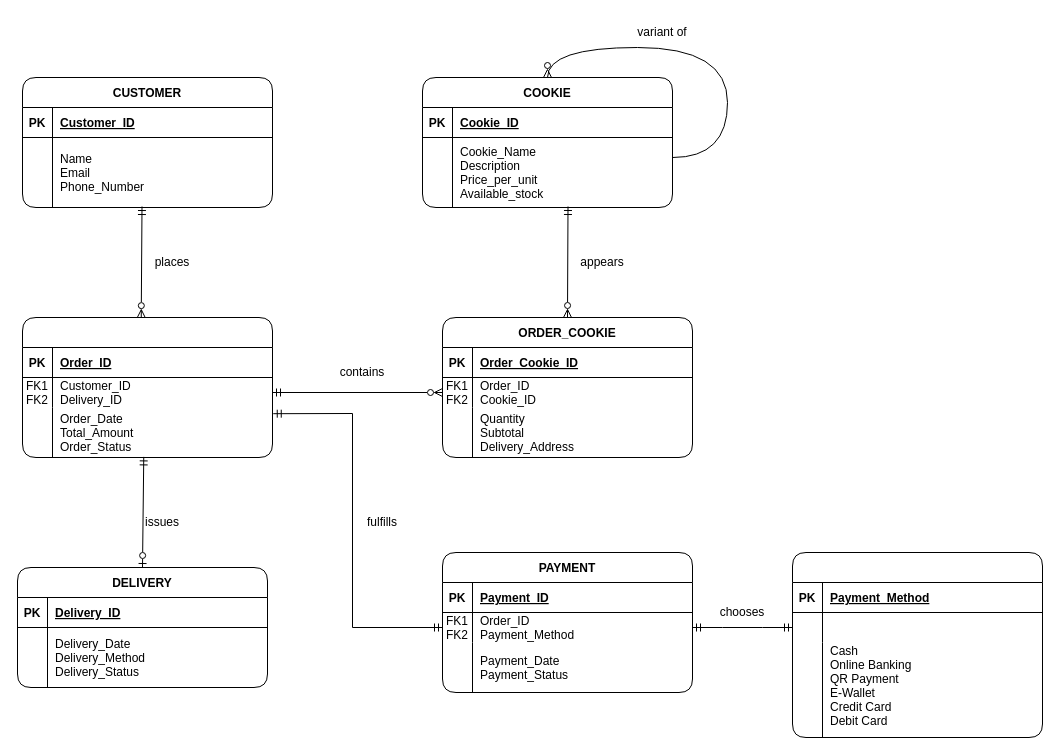
This 1060x755 diagram has some shape labels left out. Each missing label, with the box of its shape:
CUSTOMER_ORDER: (22, 316, 272, 458)
METHOD_PAY: (792, 552, 1042, 738)
